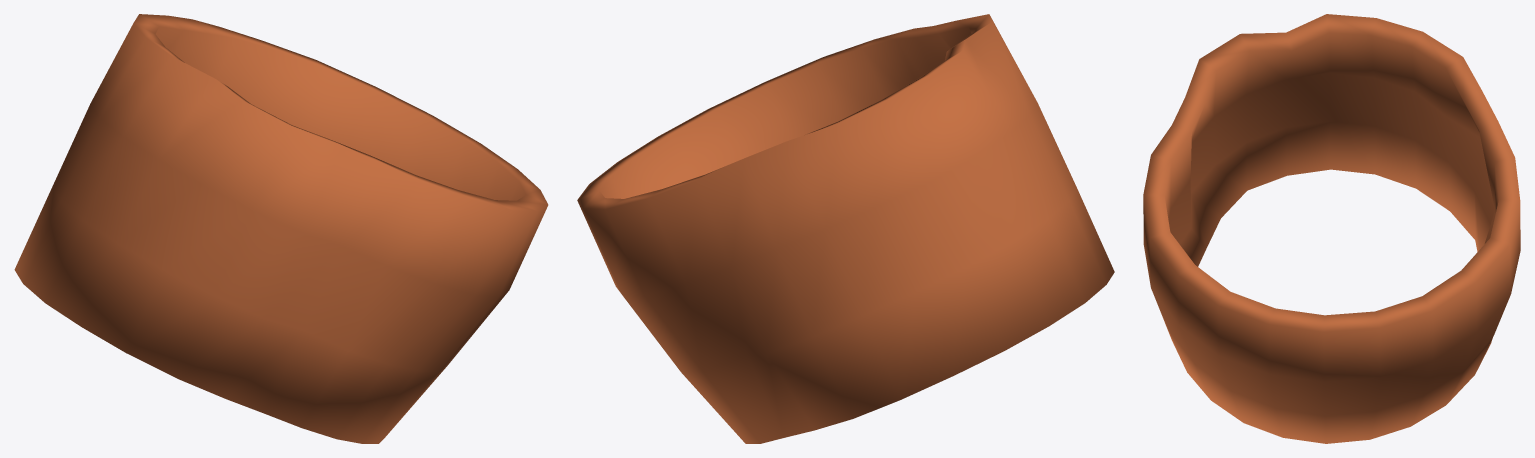
Rendered from Armor_Bracer_R.fbx.
The picture shows the model from 3 angles, left to right: view 1: azimuth 30°, elevation 25°; view 2: azimuth 150°, elevation 25°; view 3: azimuth 270°, elevation 25°; orthographic projection. The views are drawn at different scales.
Visible parts, largest first — view 1: Armor_Bracer_R; view 2: Armor_Bracer_R; view 3: Armor_Bracer_R.
Boxes of the visible parts, box(x1,y1,x2,y2) form: Armor_Bracer_R: box(14, 14, 548, 443); Armor_Bracer_R: box(577, 14, 1114, 443); Armor_Bracer_R: box(1143, 14, 1520, 443).
Size of the model in its own units: 0.1348 by 0.1102 by 0.1078.
